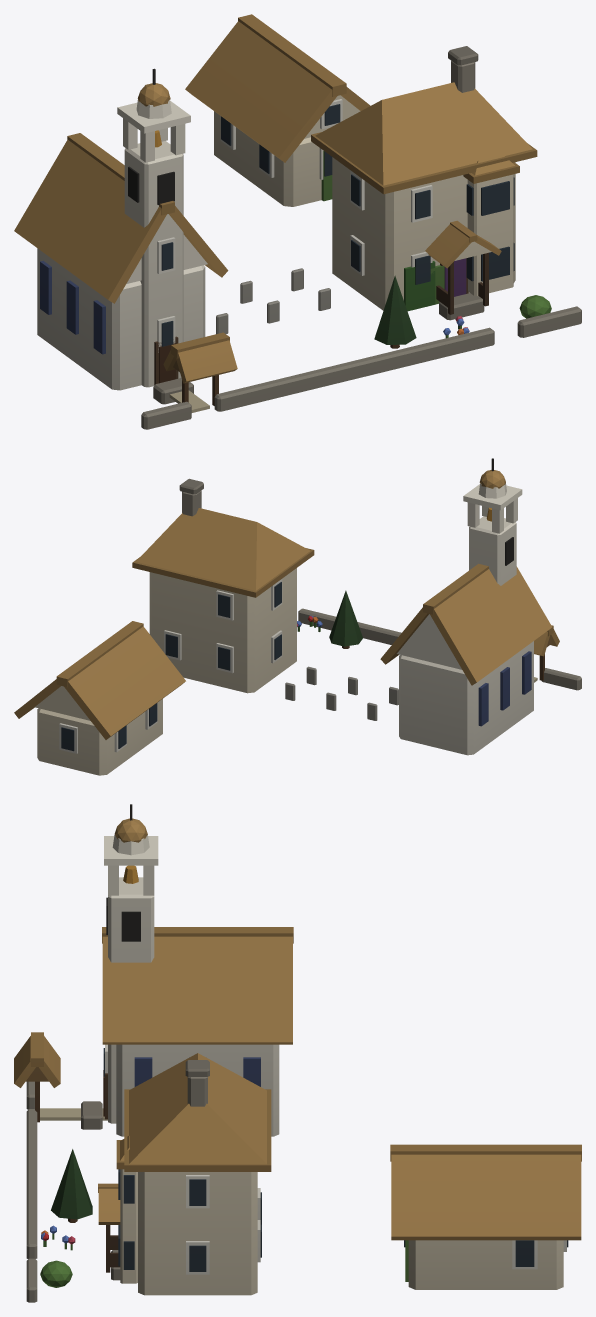
File: vicarage.glb
3 renders of one model, top to bottom at view 1: azimuth 30°, elevation 25°; view 2: azimuth 150°, elevation 25°; view 3: azimuth 270°, elevation 25°, orthographic. The views are drawn at different scales.
Visible parts, largest first — view 1: vicarage_model; view 2: vicarage_model; view 3: vicarage_model.
Boxes of the visible parts, x1=… form: vicarage_model: x1=14, y1=14, x2=581, y2=429; vicarage_model: x1=14, y1=458, x2=581, y2=775; vicarage_model: x1=14, y1=804, x2=581, y2=1302.
Bounding box in the file's own units: 1.76 × 1.2 × 1.94.
